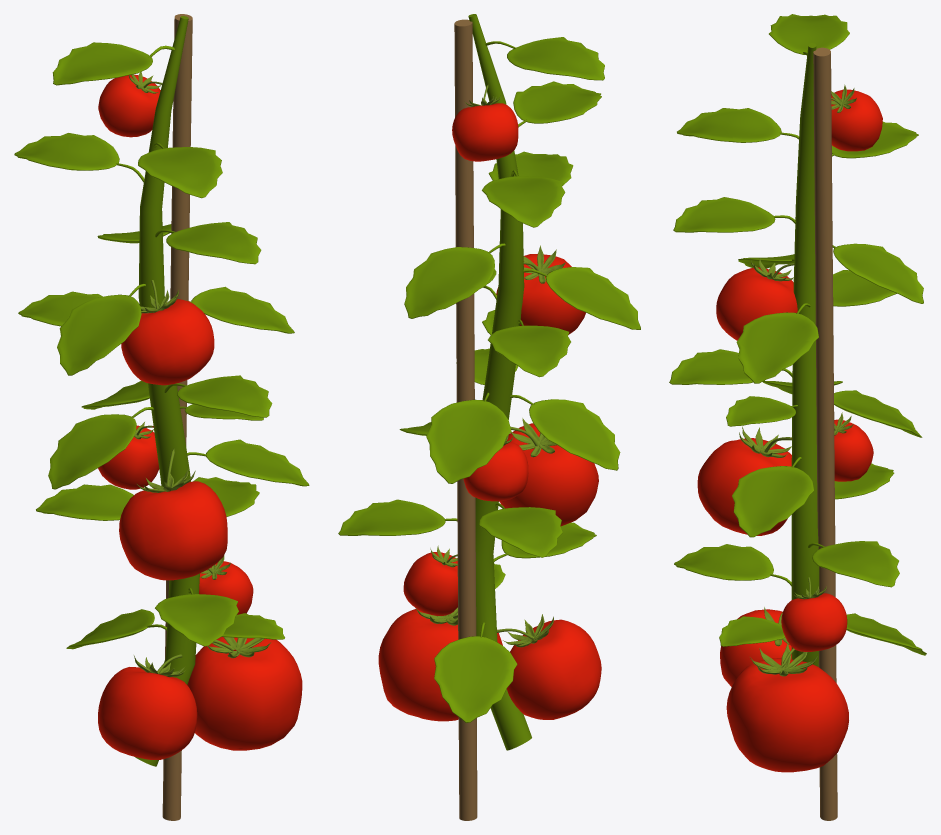
The model's file is Tomate_Planta.fbx.
3 views of the same model, side by side, from view 1: azimuth 30°, elevation 25°; view 2: azimuth 150°, elevation 25°; view 3: azimuth 270°, elevation 25° (orthographic). The views are drawn at different scales.
Parts seen in each view (by area): view 1: tomateShape; view 2: tomateShape; view 3: tomateShape.
Boxes of the visible parts, box(x1,y1,x2,y2) form: tomateShape: box(14, 14, 309, 820); tomateShape: box(338, 14, 640, 820); tomateShape: box(669, 14, 926, 820).
Bounding box in the file's own units: 1.96 × 6.23 × 1.88.
